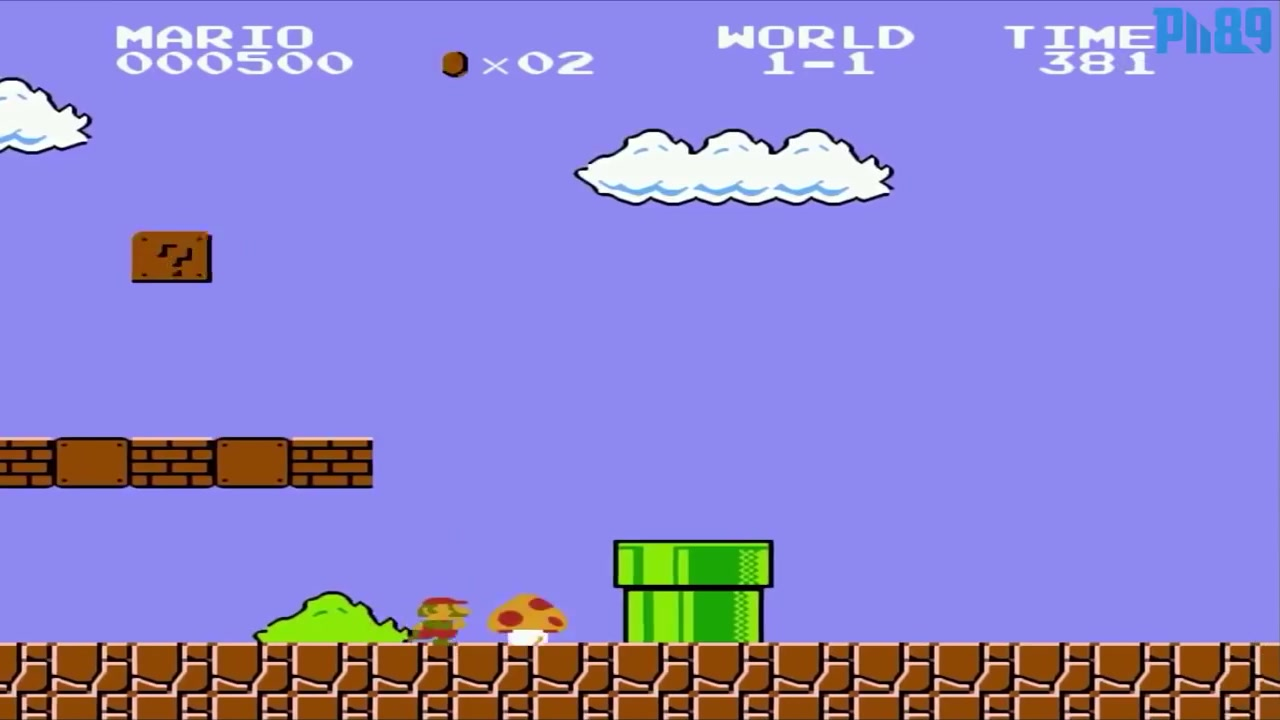mario: (403, 586, 474, 641)
